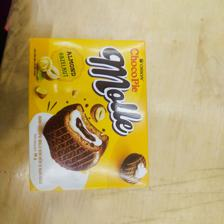Molle: (24, 33, 155, 192)
